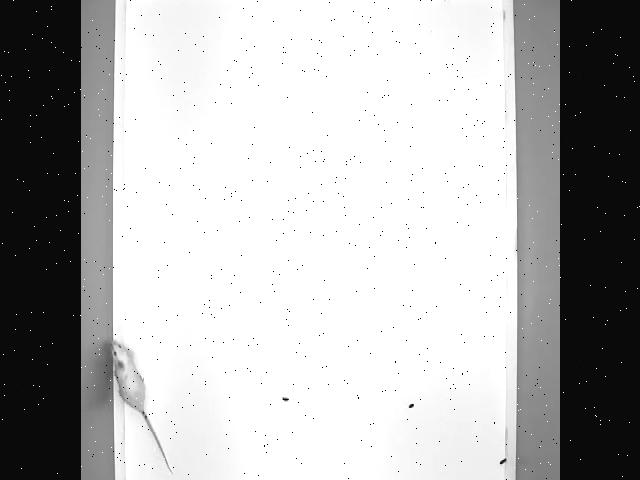Tikus: (109, 331, 170, 480)
